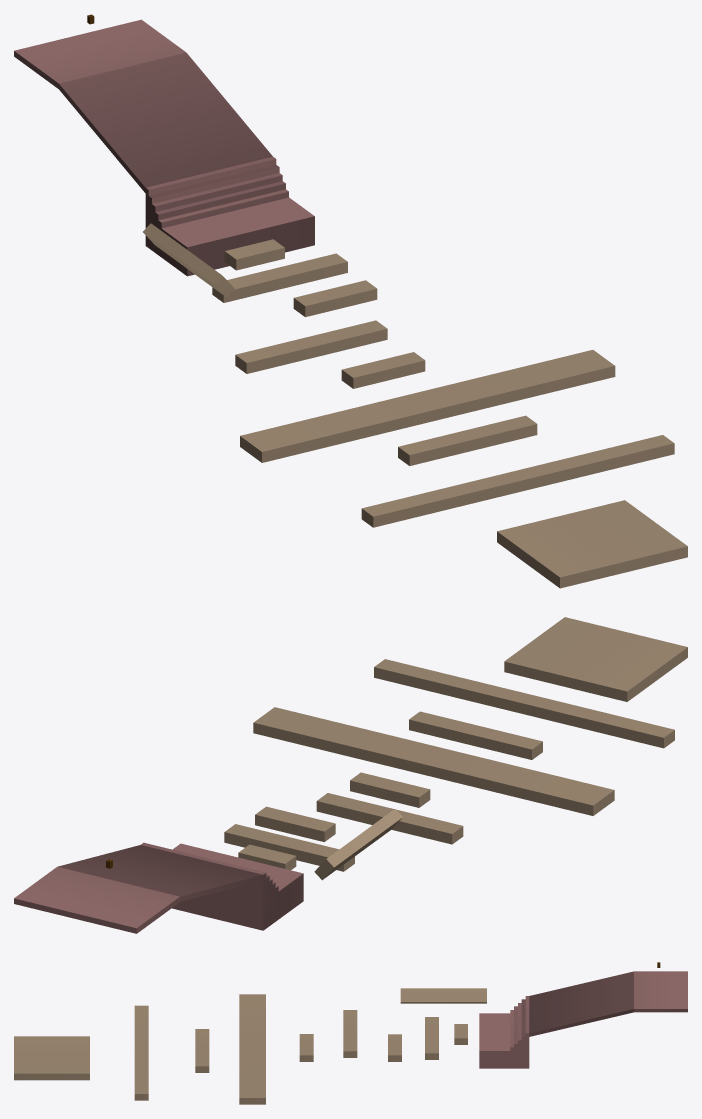
File: playground.glb
3 renders of one model, top to bottom at view 1: azimuth 30°, elevation 25°; view 2: azimuth 150°, elevation 25°; view 3: azimuth 270°, elevation 25°, orthographic. The views are drawn at different scales.
Parts seen in each view (by area): view 1: Cube.004 (×10), Cube.001; view 2: Cube.004 (×10), Cube.001; view 3: Cube.004 (×10), Cube.001.
Part boxes in pixels (x1,y1,x2,y2): Cube.004 (×10): (143,223,687,588); Cube.001: (14,19,314,276); Cube.004 (×10): (224,617,687,880); Cube.001: (14,842,303,933); Cube.004 (×10): (14,988,486,1104); Cube.001: (479,971,687,1068).
Bounding box in the file's own units: 63.54 × 28.33 × 174.
Materials: 2 (2 with a texture image).
